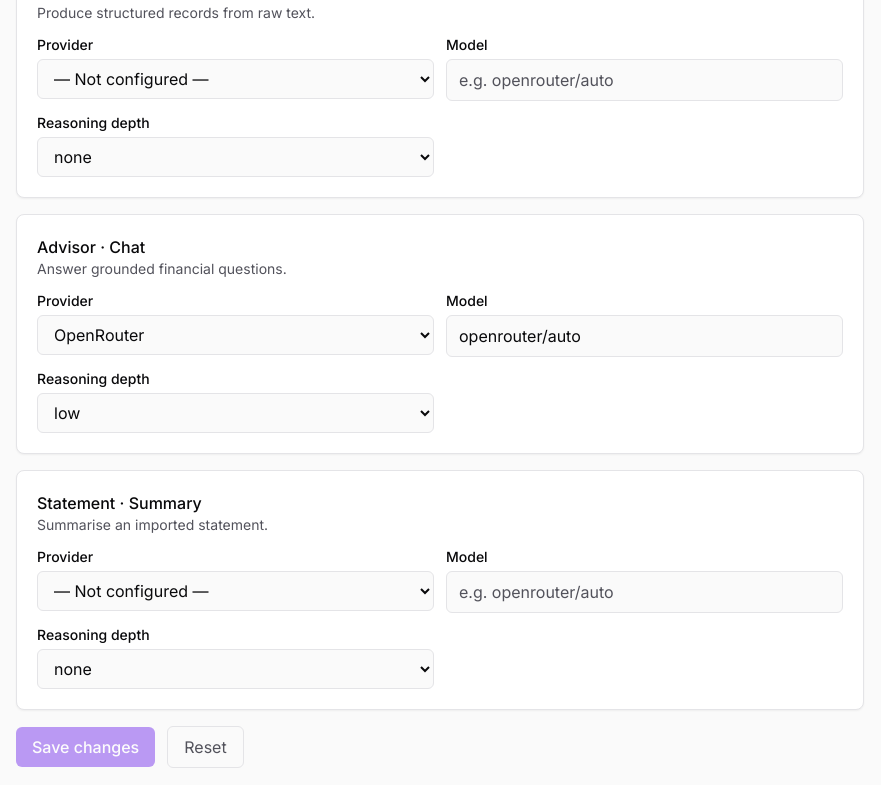
Test case: LlmSettingsPanel (EPIC-023 PR4) › Reset reverts edits to the saved bindings
The width and height of the screenshot is (881, 785).
(page scrolled)
Select "high" in the dropdown labelled "Reasoning depth" below "Answer grounded financial questions." at (236, 413), box [37,393,434,433]
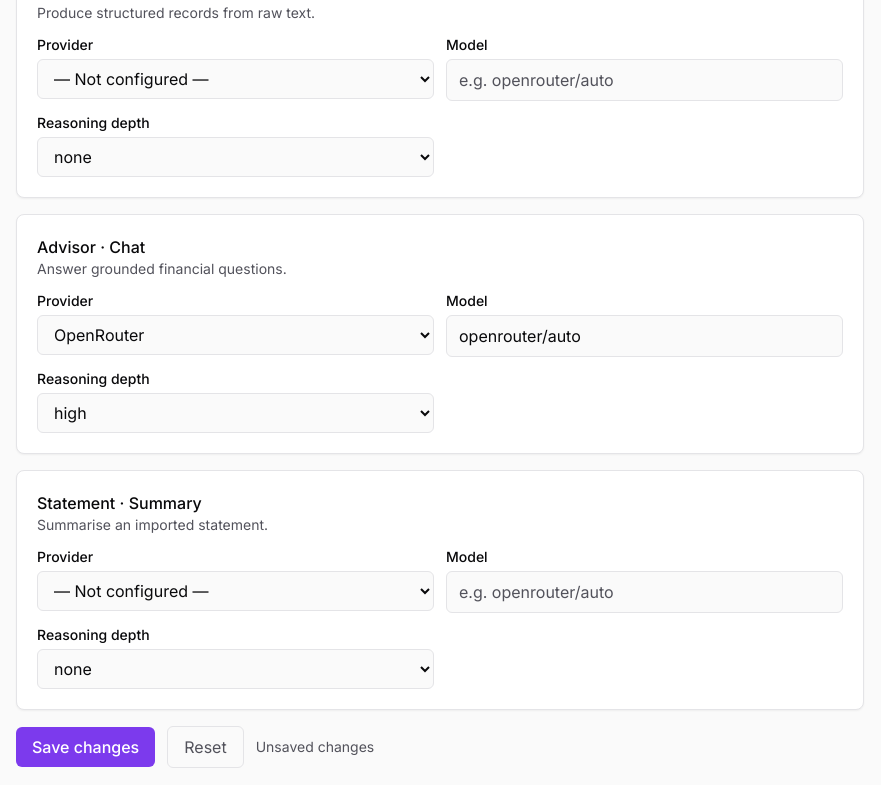
Click the button "Reset".
click(205, 747)  # box [167,726,244,768]
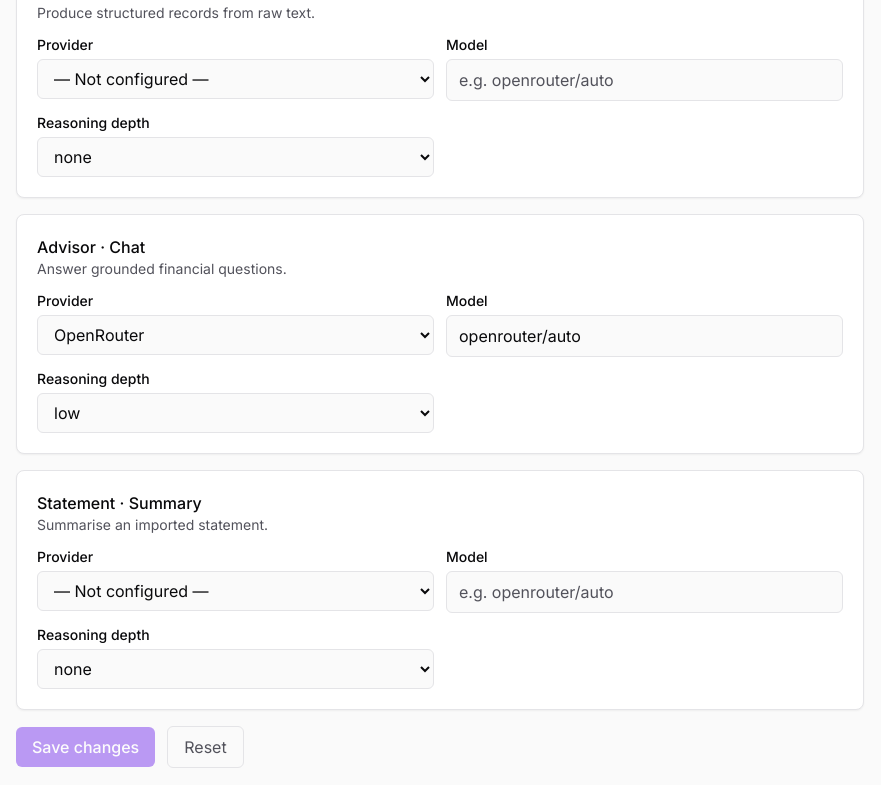
Expected: the button "Save changes" is disabled, [16,727,155,767]
